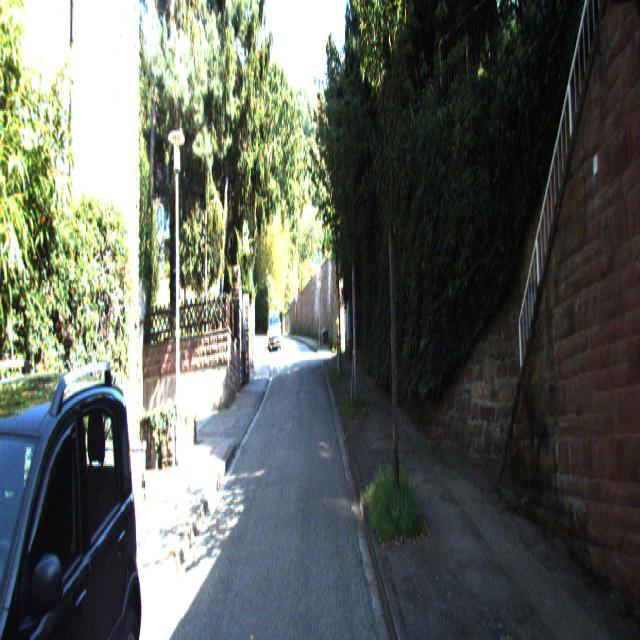Car: (0, 345, 142, 638), (269, 307, 282, 352)
